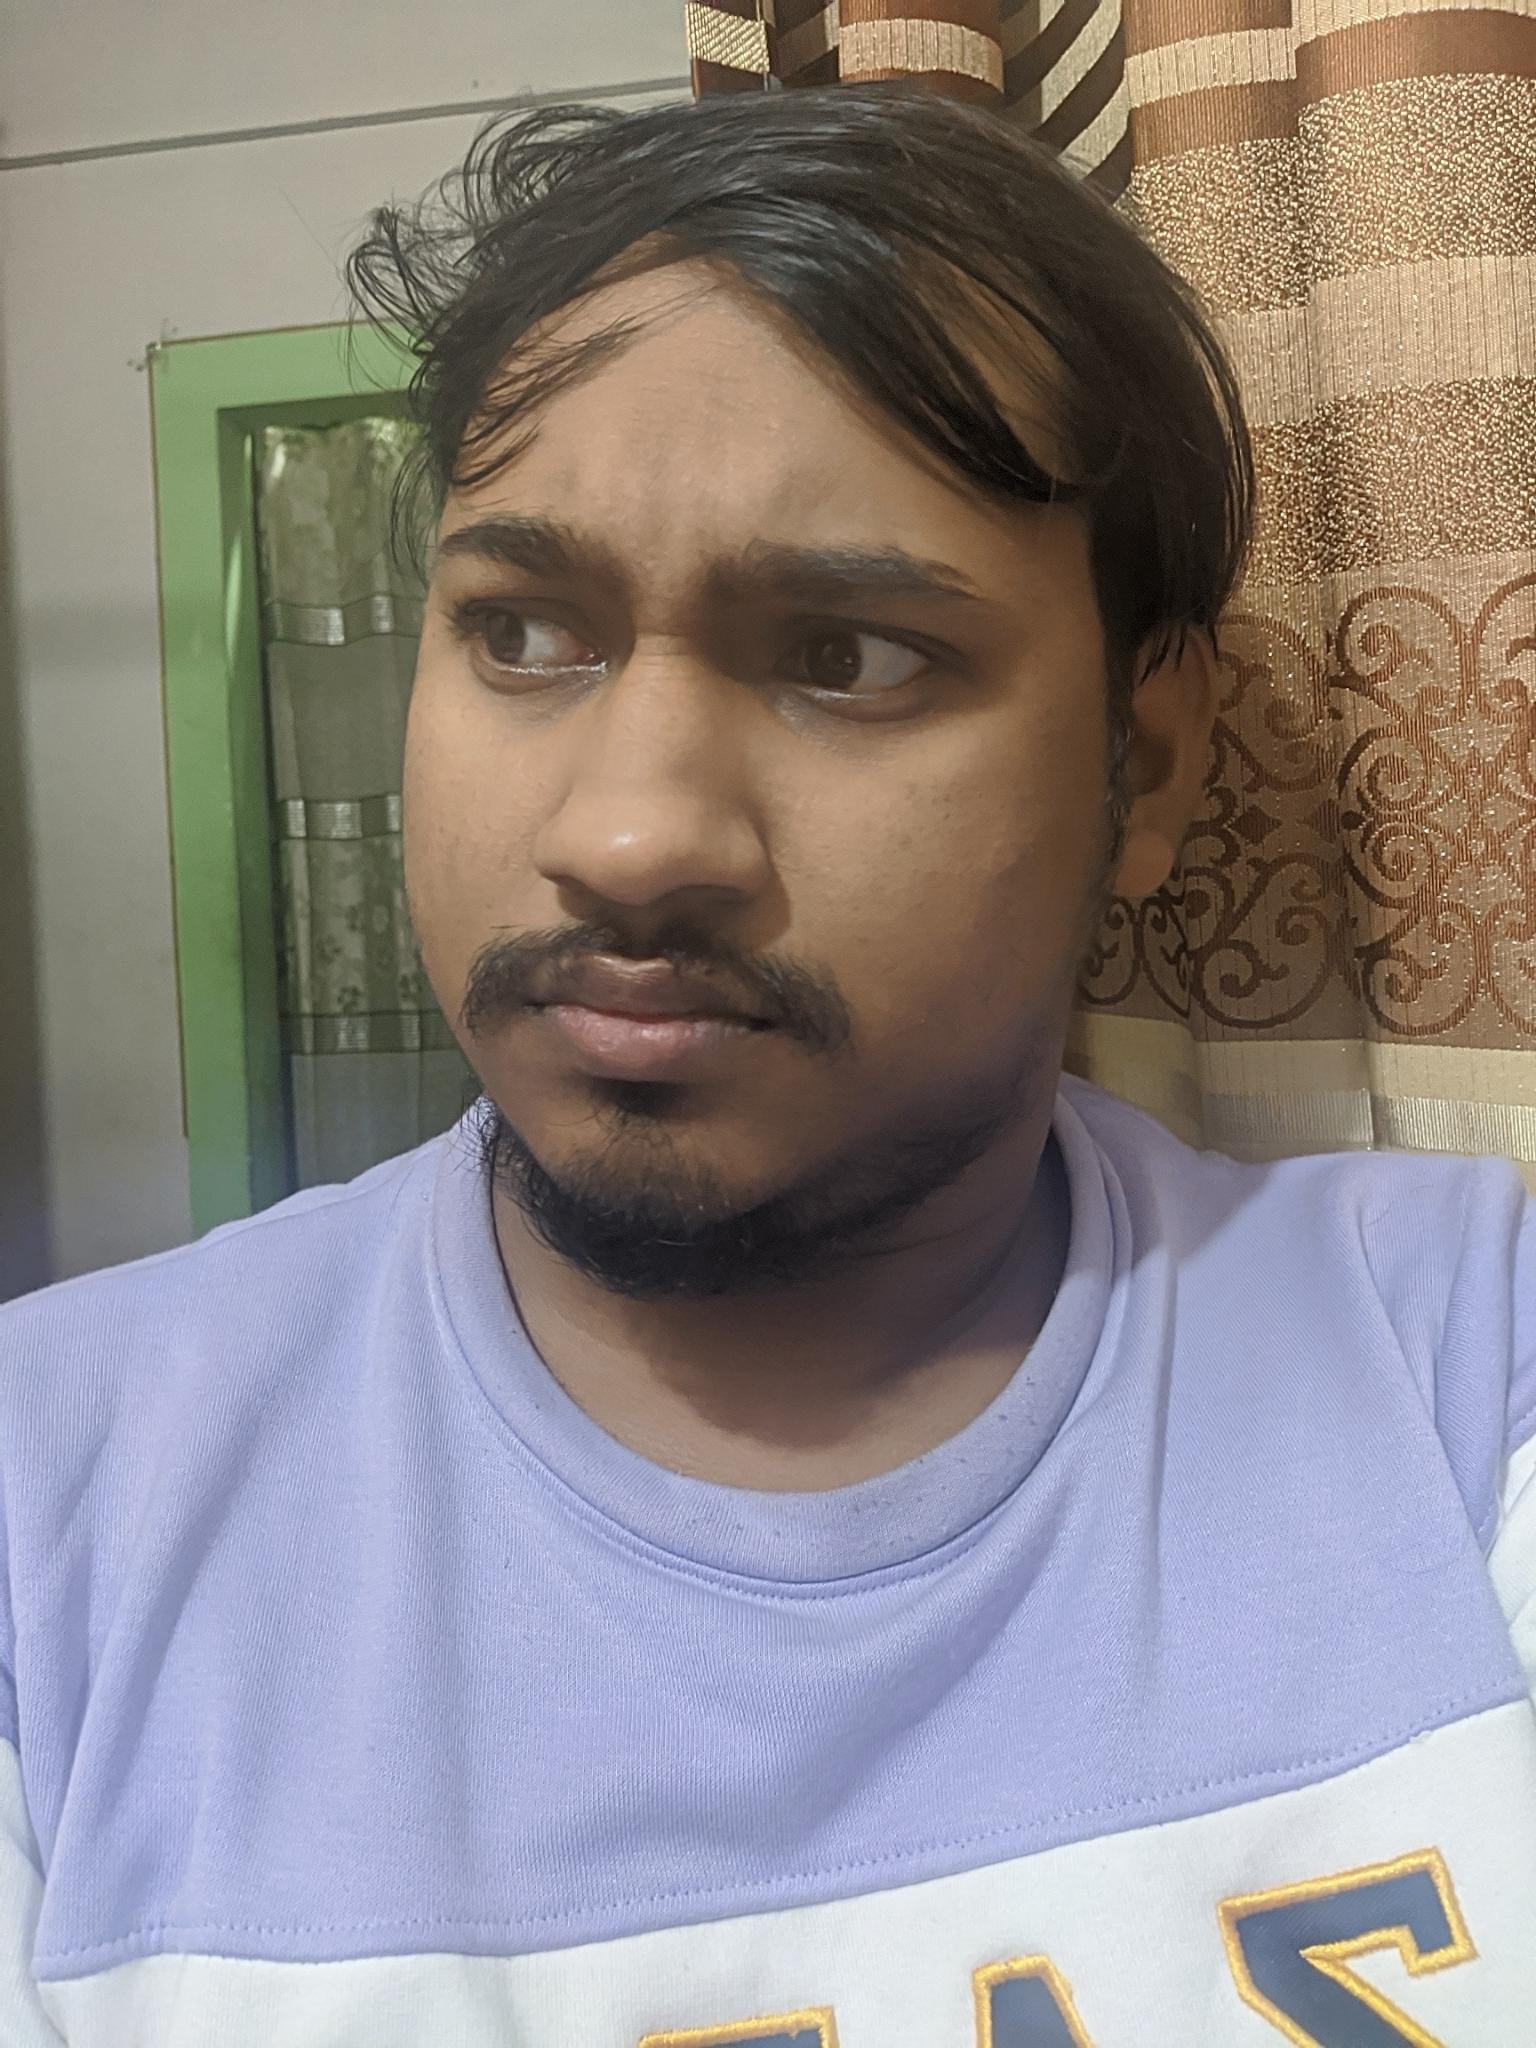Angry: (373, 364, 1042, 1243)
